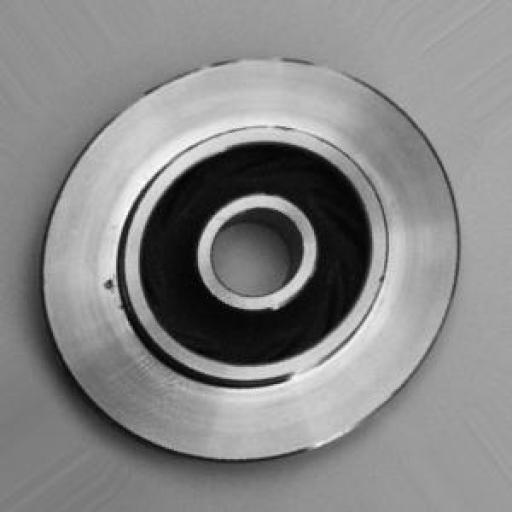defect: (90, 243, 146, 322)
